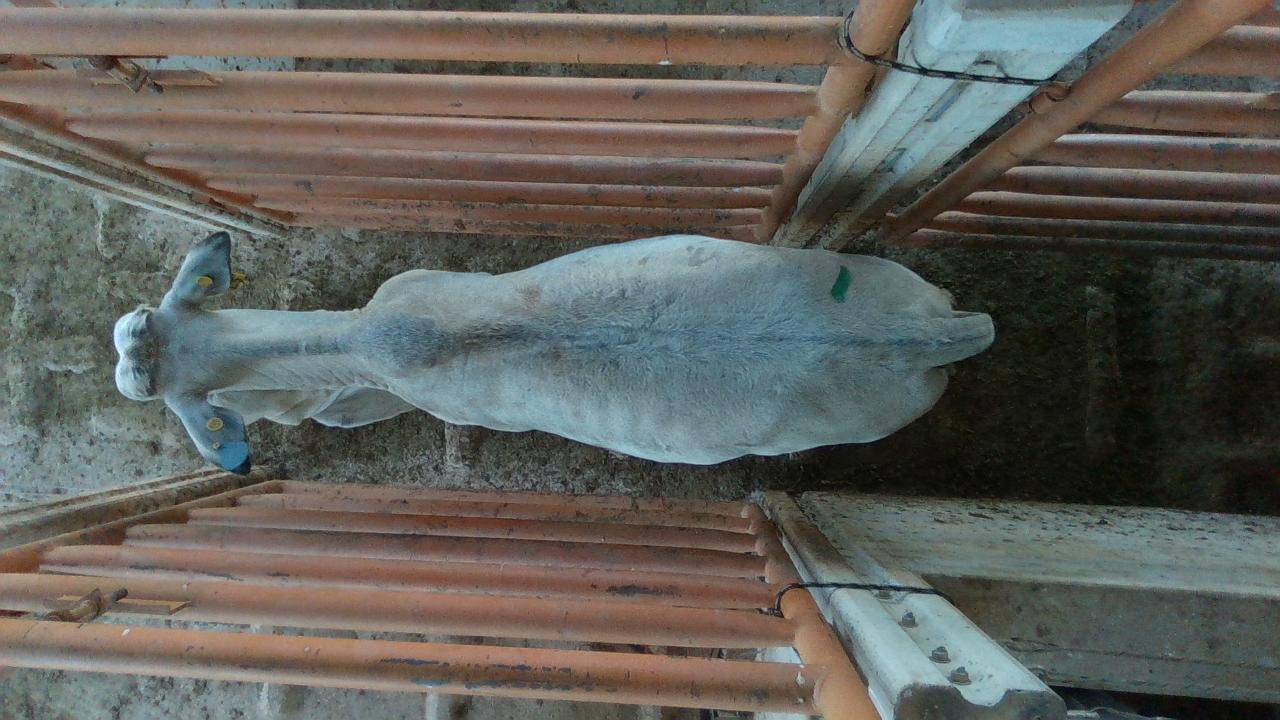cattle: (111, 227, 995, 474)
